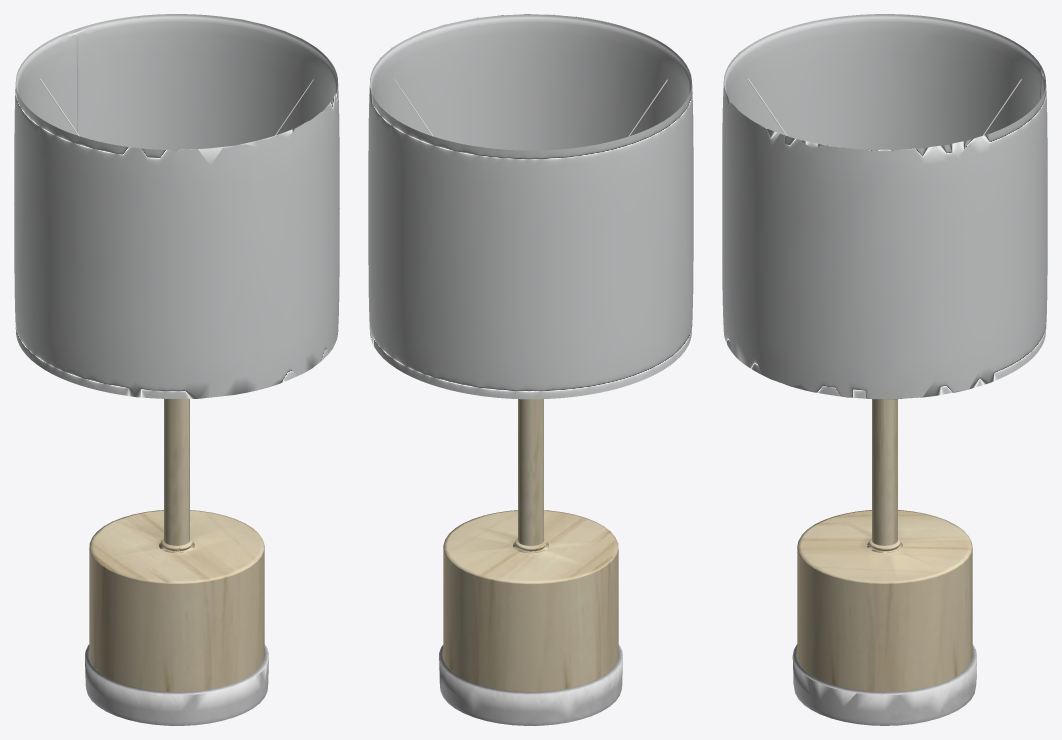
3 views of the same model, side by side, from view 1: azimuth 30°, elevation 25°; view 2: azimuth 150°, elevation 25°; view 3: azimuth 270°, elevation 25° (orthographic).
Visible parts, largest first — view 1: RootNode; view 2: RootNode; view 3: RootNode.
Boxes of the visible parts, box(x1,y1,x2,y2) form: RootNode: box(14, 14, 339, 725); RootNode: box(368, 14, 693, 725); RootNode: box(722, 14, 1047, 725).
Bounding box in the file's own units: 0.2286 × 0.4699 × 0.2285.
1 material, 1 textured.
